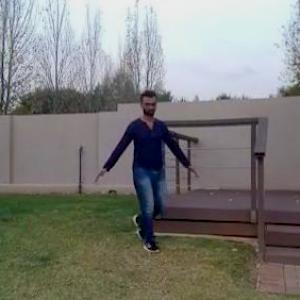land: (92, 86, 199, 269)
